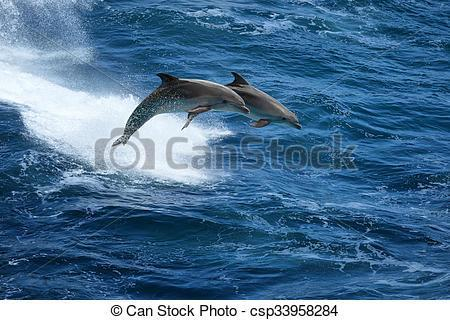fish: (111, 74, 249, 147), (176, 70, 306, 131)
